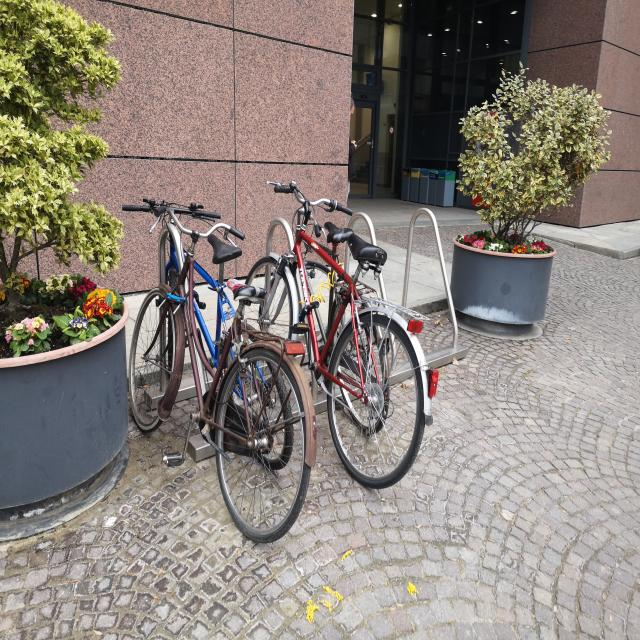Bicycle: (109, 189, 319, 565), (259, 215, 428, 497), (128, 172, 262, 437), (316, 199, 398, 366)
